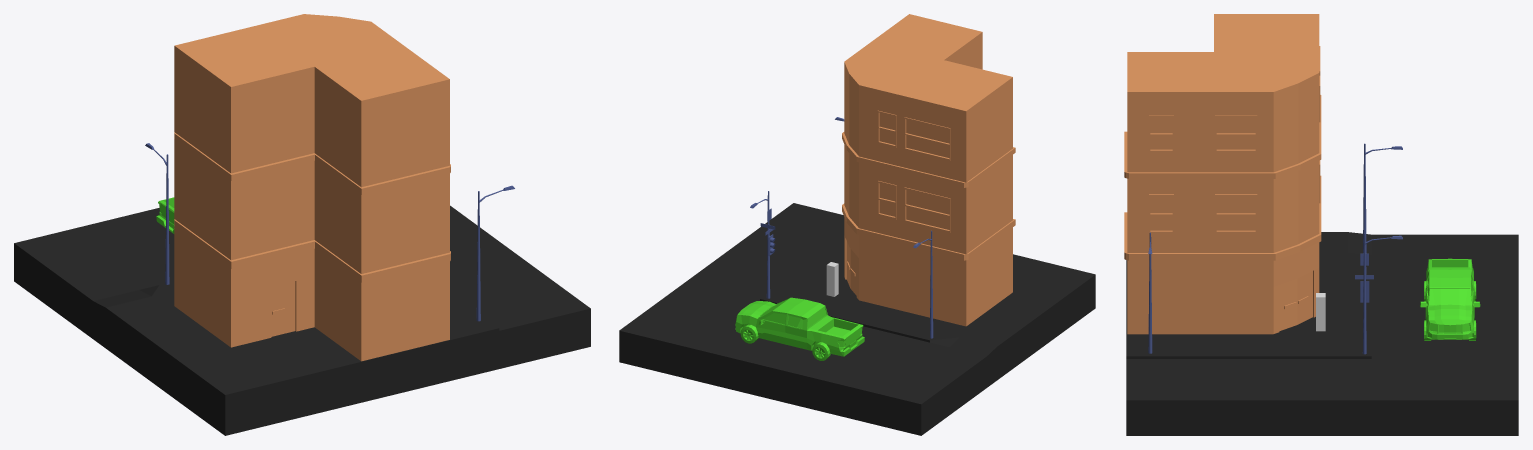
The model's file is TodayUSA2.glb.
3 renders of one model, left to right at view 1: azimuth 30°, elevation 25°; view 2: azimuth 150°, elevation 25°; view 3: azimuth 270°, elevation 25°, orthographic. The views are drawn at different scales.
Visible parts, largest first — view 1: Building, Base, Streetlamp1, Streetlamp2; view 2: Base, Building, FordF150, Red Light; view 3: Building, Base, FordF150, Red Light, Streetlamp2, Streetlamp1, Human Height.
Boxes of the visible parts, <box> form: Building: <box>174,14,450,361</box>; Base: <box>14,205,590,435</box>; Streetlamp1: <box>476,185,514,321</box>; Streetlamp2: <box>145,143,169,284</box>; Base: <box>619,203,1095,435</box>; Building: <box>842,14,1015,326</box>; FordF150: <box>735,297,864,360</box>; Red Light: <box>750,191,775,298</box>; Building: <box>1124,14,1321,334</box>; Base: <box>1126,232,1518,435</box>; FordF150: <box>1420,258,1480,340</box>; Red Light: <box>1355,233,1402,354</box>; Streetlamp2: <box>1363,143,1402,253</box>; Streetlamp1: <box>1148,232,1152,353</box>; Human Height: <box>1316,293,1325,331</box>.
Bounding box in the file's own units: 6 × 4.72 × 6.03.
